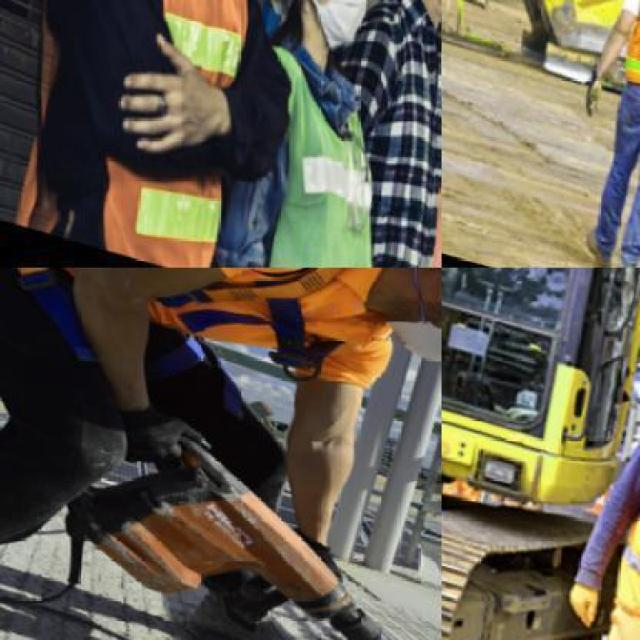Vest: (18, 0, 304, 266), (202, 23, 422, 266), (28, 268, 404, 384), (374, 109, 440, 266)
